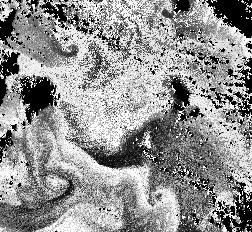CE: (34, 164, 77, 200)
